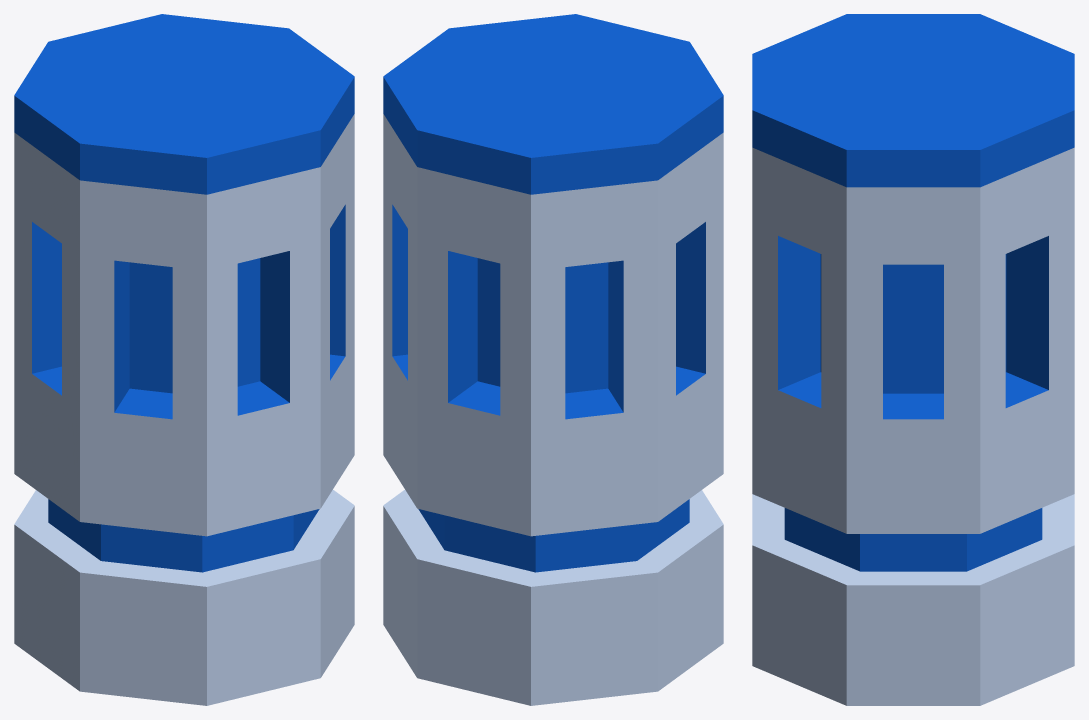
Rendered from Mortar_Shell_3.fbx.
3 views of the same model, side by side, from view 1: azimuth 30°, elevation 25°; view 2: azimuth 150°, elevation 25°; view 3: azimuth 270°, elevation 25° (orthographic).
Parts seen in each view (by area): view 1: FireMortarShell; view 2: FireMortarShell; view 3: FireMortarShell.
Part boxes in pixels (<box>): FireMortarShell: <box>14,14,354,705</box>; FireMortarShell: <box>383,14,723,705</box>; FireMortarShell: <box>752,14,1074,705</box>.
Bounding box in the file's own units: 8.02 × 15.27 × 8.02.
1 material, 1 textured.
